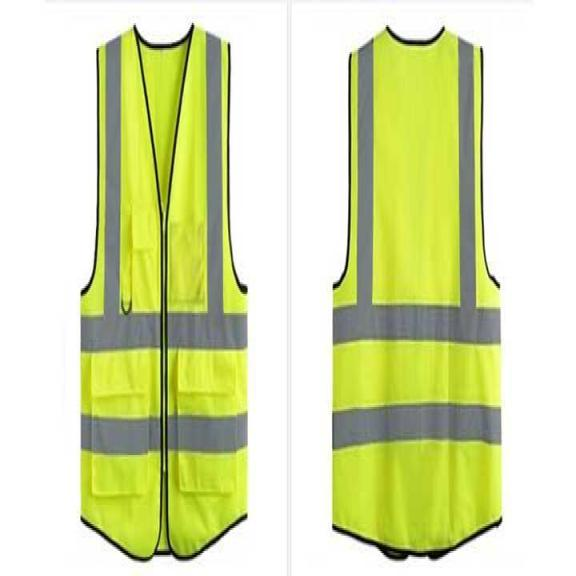safety_vest: (330, 17, 504, 561), (78, 23, 250, 561)
